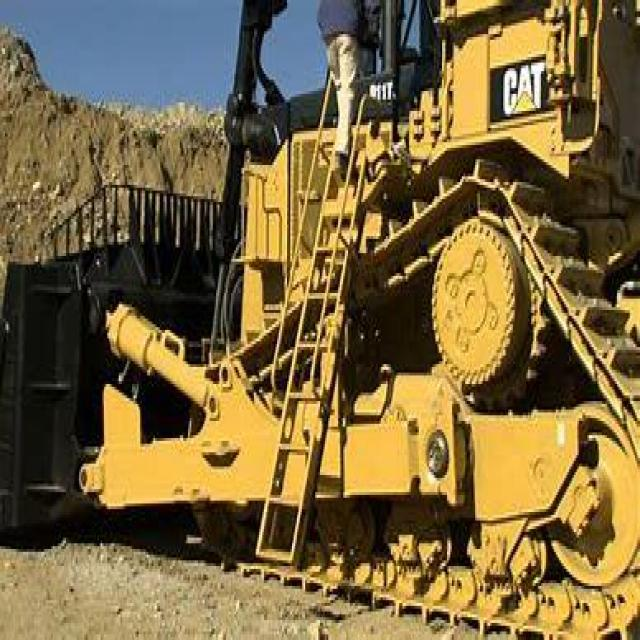Bulldozer: (2, 0, 638, 637)
